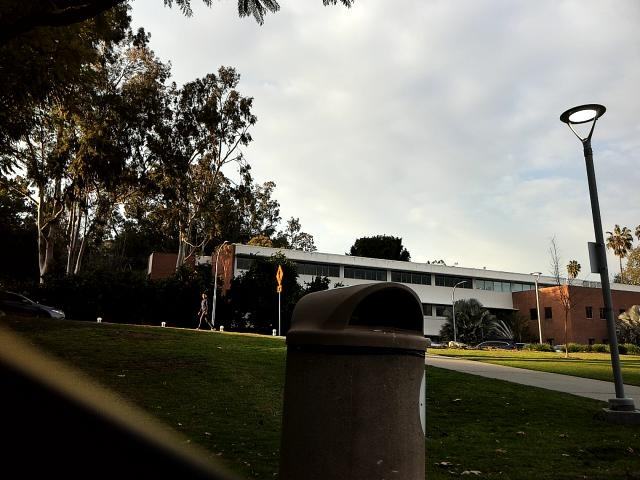trashcan: (282, 276, 441, 480)
